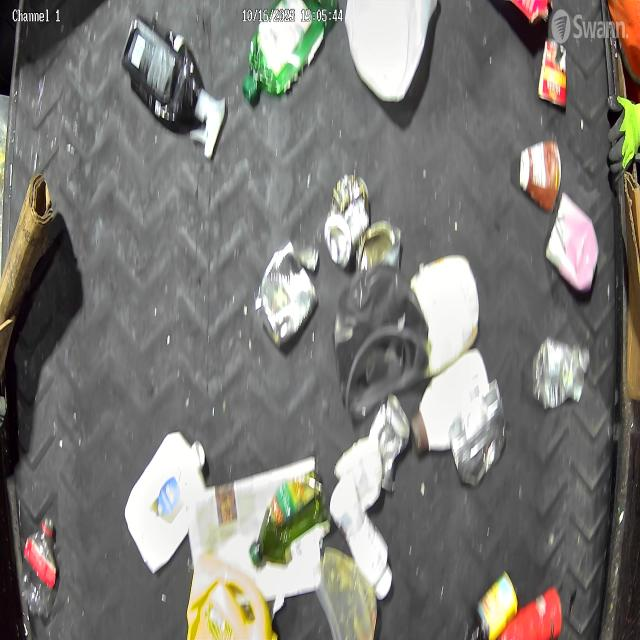can: (256, 239, 317, 345), (546, 191, 598, 292), (323, 173, 370, 269), (370, 394, 411, 492), (475, 565, 518, 640), (355, 219, 403, 271), (538, 37, 568, 107)
milk_jug: (125, 432, 207, 574), (345, 0, 438, 102)
non_white_jug: (332, 266, 429, 420), (123, 15, 227, 157), (186, 551, 279, 640)
plastic_bottle: (531, 335, 591, 410), (20, 511, 58, 616)
